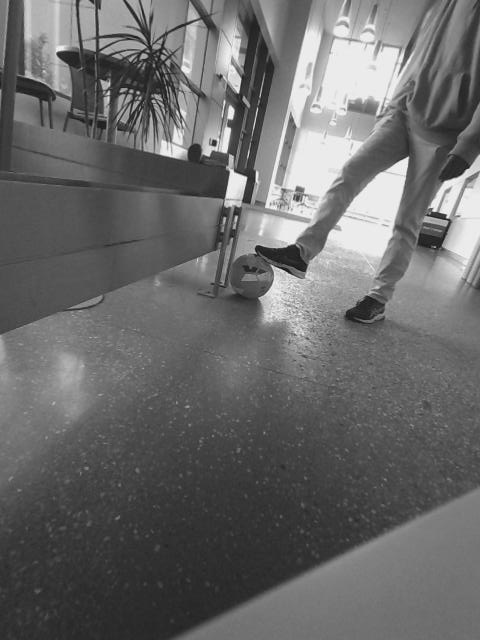ball: (165, 268, 238, 340)
